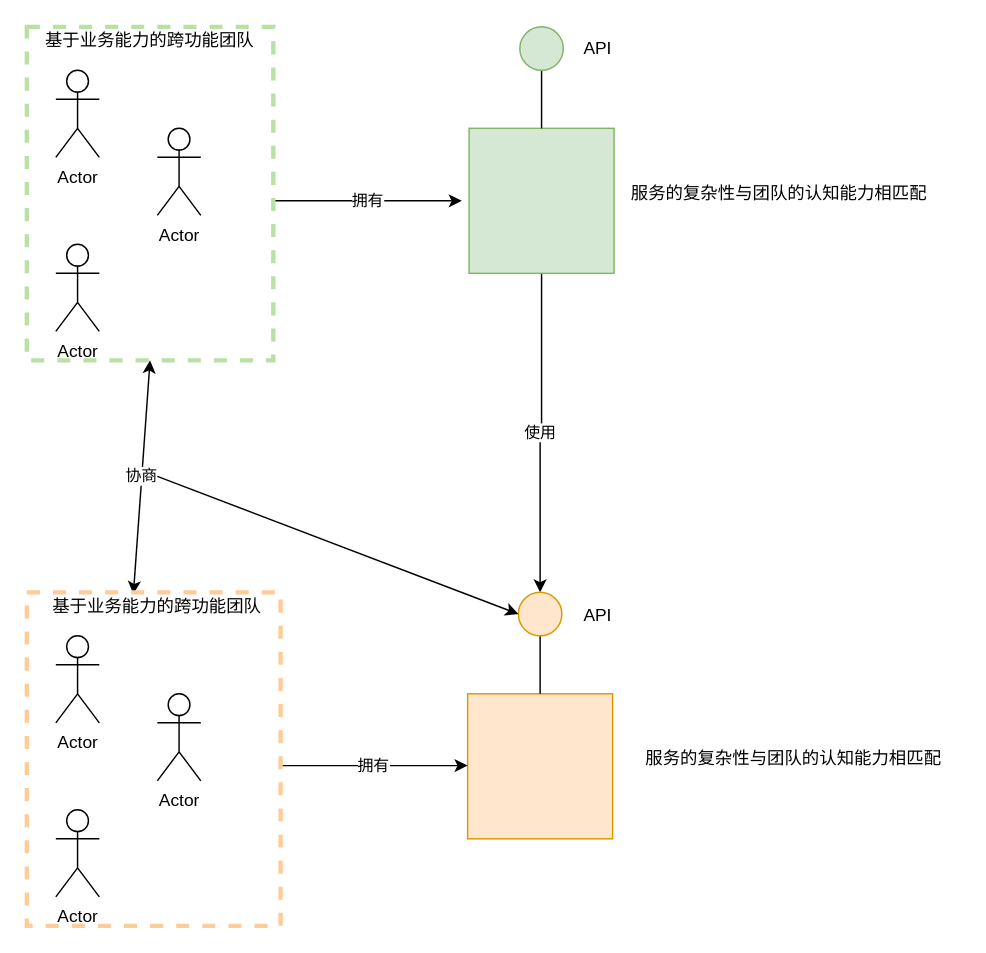
The diagram is 986 pixels wide and 953 high, and some of its shapes have lost their labels. The centre of each missing label's shape, as x and y in pixels:
"服务A" belongs at (x=541, y=200).
"服务B" belongs at (x=539, y=765).
